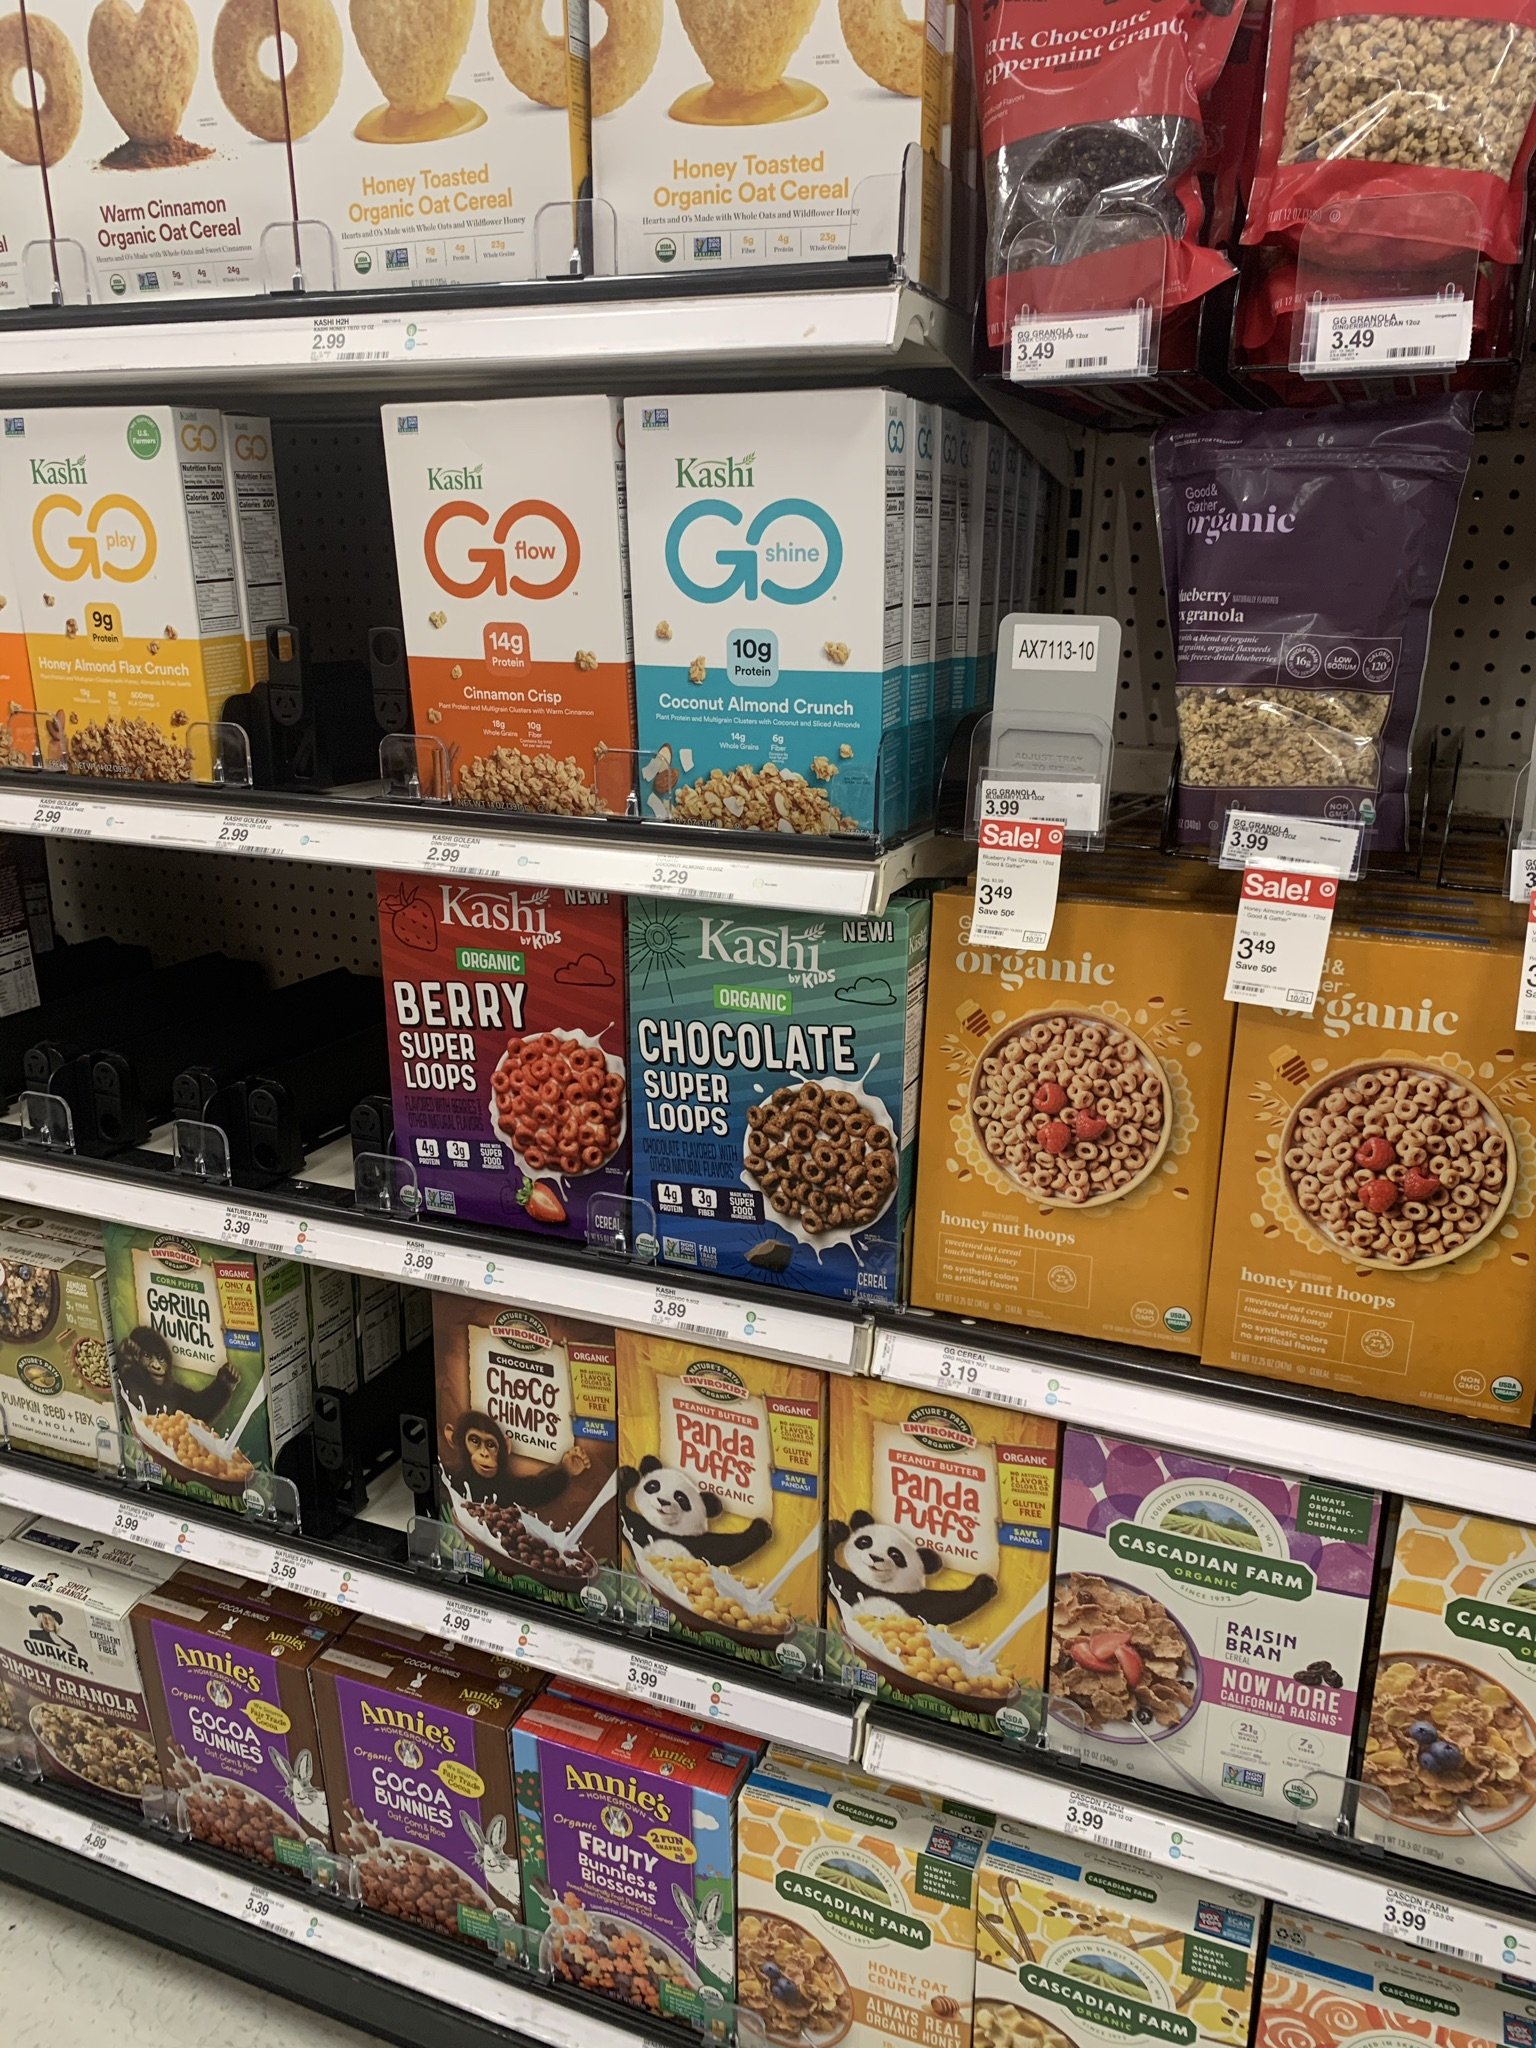cereal: (1226, 906, 1530, 1417), (1052, 1416, 1367, 1838), (942, 905, 1197, 1361), (641, 405, 891, 843), (620, 889, 892, 1285), (357, 850, 620, 1247), (418, 411, 602, 810), (829, 1384, 1033, 1743), (623, 1353, 828, 1685), (513, 1730, 715, 2048), (731, 1793, 968, 2048), (421, 1309, 603, 1621), (308, 1692, 507, 1971), (132, 1625, 316, 1911), (119, 1243, 274, 1508)
